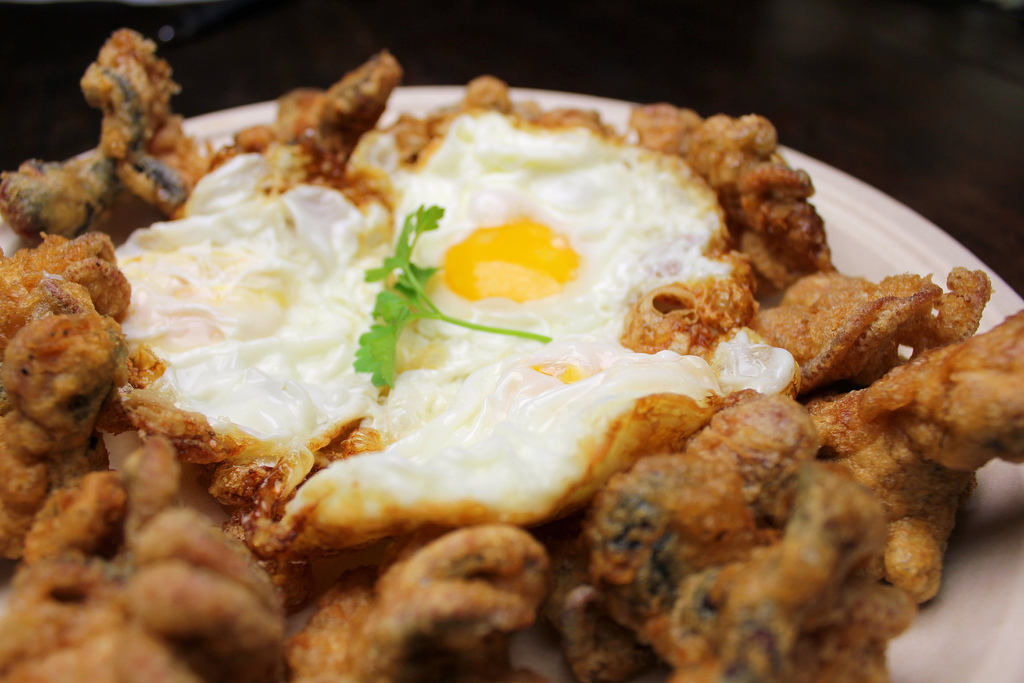fried egg: (132, 117, 793, 551)
